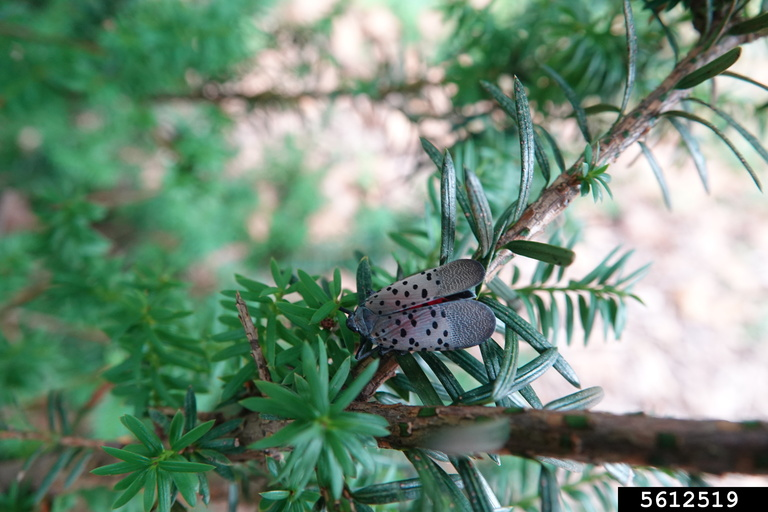adult: (322, 256, 501, 361)
